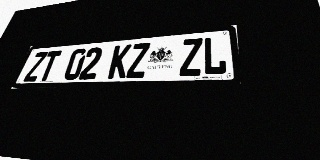0: (62, 48, 88, 80)
2: (78, 47, 104, 80)
K: (107, 44, 132, 79)
L: (203, 36, 227, 75)
T: (37, 50, 62, 81)
Z: (179, 38, 202, 76), (126, 42, 150, 78), (23, 51, 48, 82)
